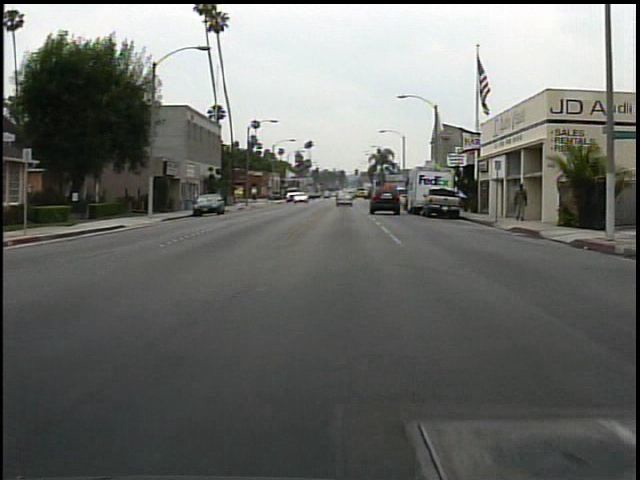person: (510, 183, 531, 223)
